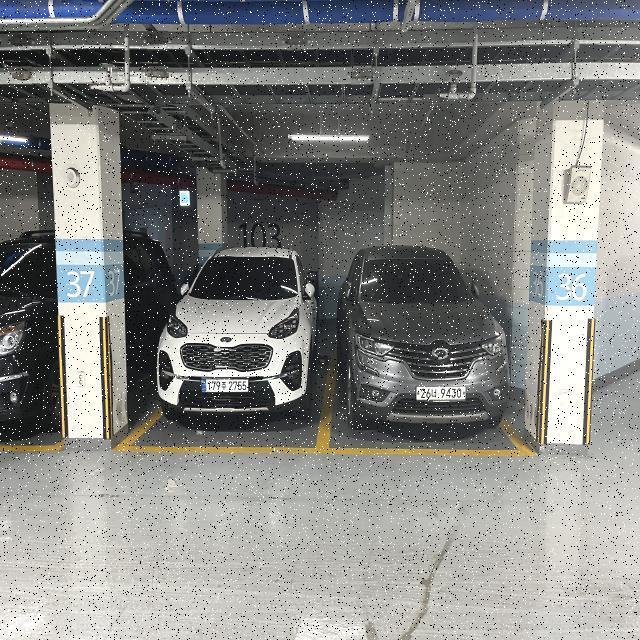Car: (124, 220, 330, 456), (324, 236, 526, 464)
